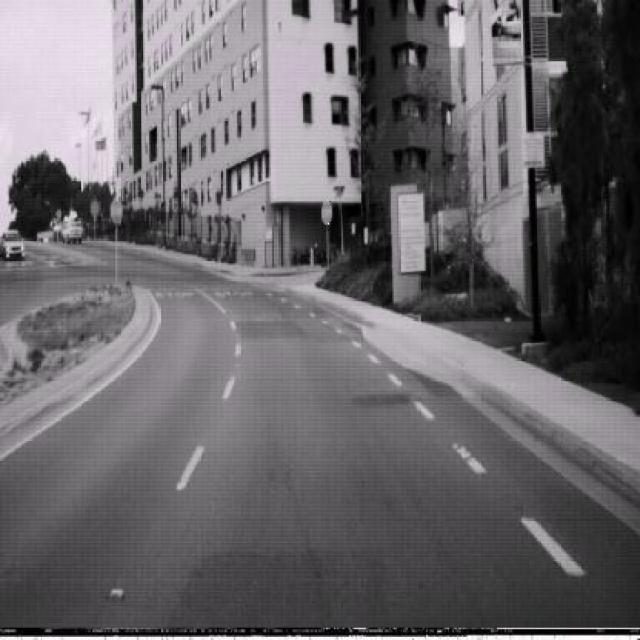stop: (109, 196, 123, 224), (320, 198, 332, 228)
